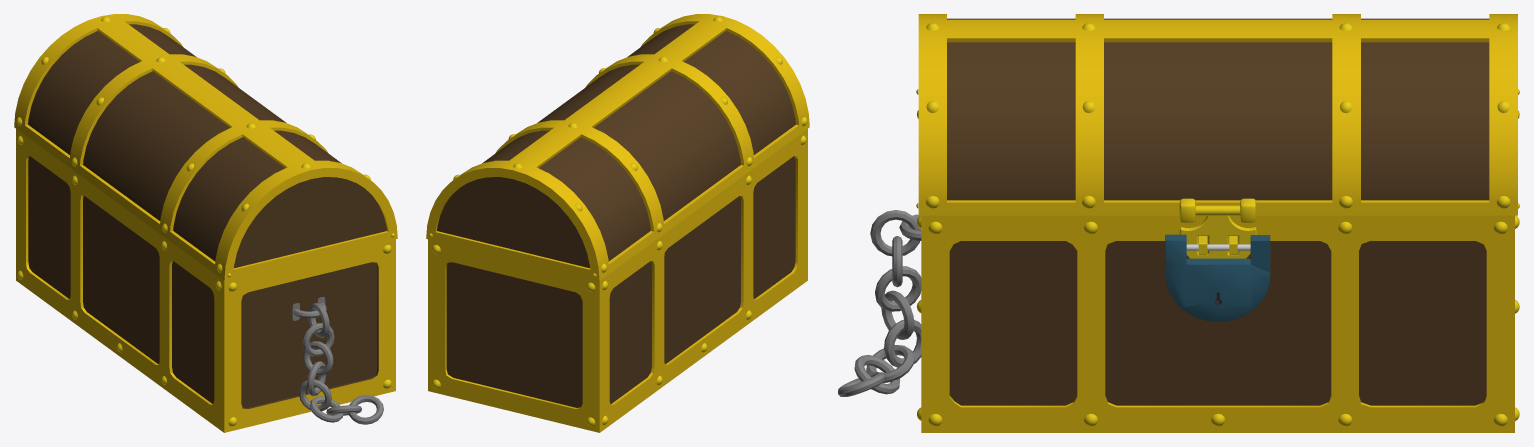
Rendered from treasurebox06_1_m.fbx.
The picture shows the model from 3 angles, left to right: view 1: azimuth 30°, elevation 25°; view 2: azimuth 150°, elevation 25°; view 3: azimuth 270°, elevation 25°; orthographic projection. The views are drawn at different scales.
Visible parts, largest first — view 1: Flap, UnderBox, Rings, Pin_Flap, Pin_Under; view 2: UnderBox, Flap, Pin_Flap, Pin_Under; view 3: UnderBox, Flap, Rings, Lock, Latch, Pin_Under, Pin_Flap, Bearing, Lock_Move.
Part boxes in pixels (x1,y1,x2,y2): Flap: [14, 14, 397, 280]; UnderBox: [16, 129, 395, 432]; Rings: [292, 297, 383, 424]; Pin_Flap: [16, 16, 394, 277]; Pin_Under: [17, 135, 391, 426]; UnderBox: [428, 129, 807, 432]; Flap: [426, 14, 809, 280]; Pin_Flap: [429, 16, 807, 277]; Pin_Under: [432, 135, 806, 426]; UnderBox: [921, 215, 1514, 432]; Flap: [918, 14, 1517, 215]; Rings: [838, 210, 921, 396]; Lock: [1165, 234, 1270, 321]; Latch: [1179, 205, 1256, 258]; Pin_Under: [916, 110, 1519, 426]; Pin_Flap: [916, 23, 1519, 208]; Bearing: [1179, 198, 1256, 222]; Lock_Move: [1250, 235, 1270, 273].
Size of the model in its own units: 220 by 275 by 483.
